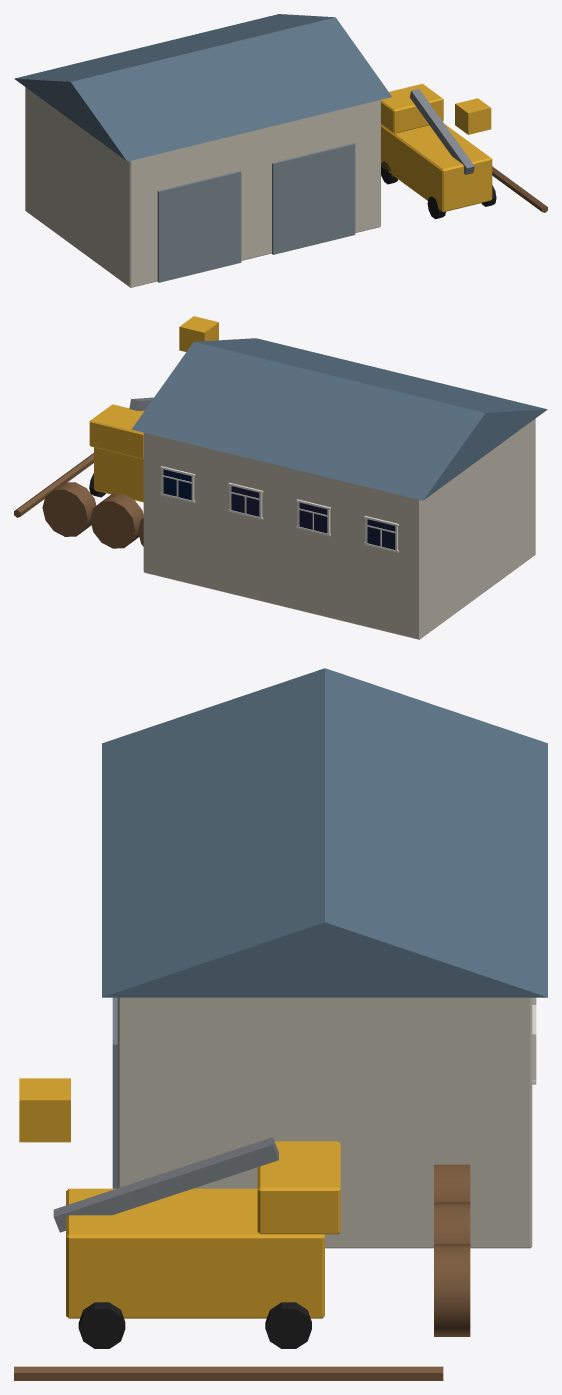
File: depot.glb
3 renders of one model, top to bottom at view 1: azimuth 30°, elevation 25°; view 2: azimuth 150°, elevation 25°; view 3: azimuth 270°, elevation 25°, orthographic. The views are drawn at different scales.
Visible parts, largest first — view 1: depot; view 2: depot; view 3: depot.
Part boxes in pixels (box(x1,y1,x2,y2)): depot: box(14, 14, 547, 287); depot: box(14, 316, 547, 639); depot: box(14, 668, 547, 1380).
Bounding box in the file's own units: 17.43 × 7.1 × 10.3.
